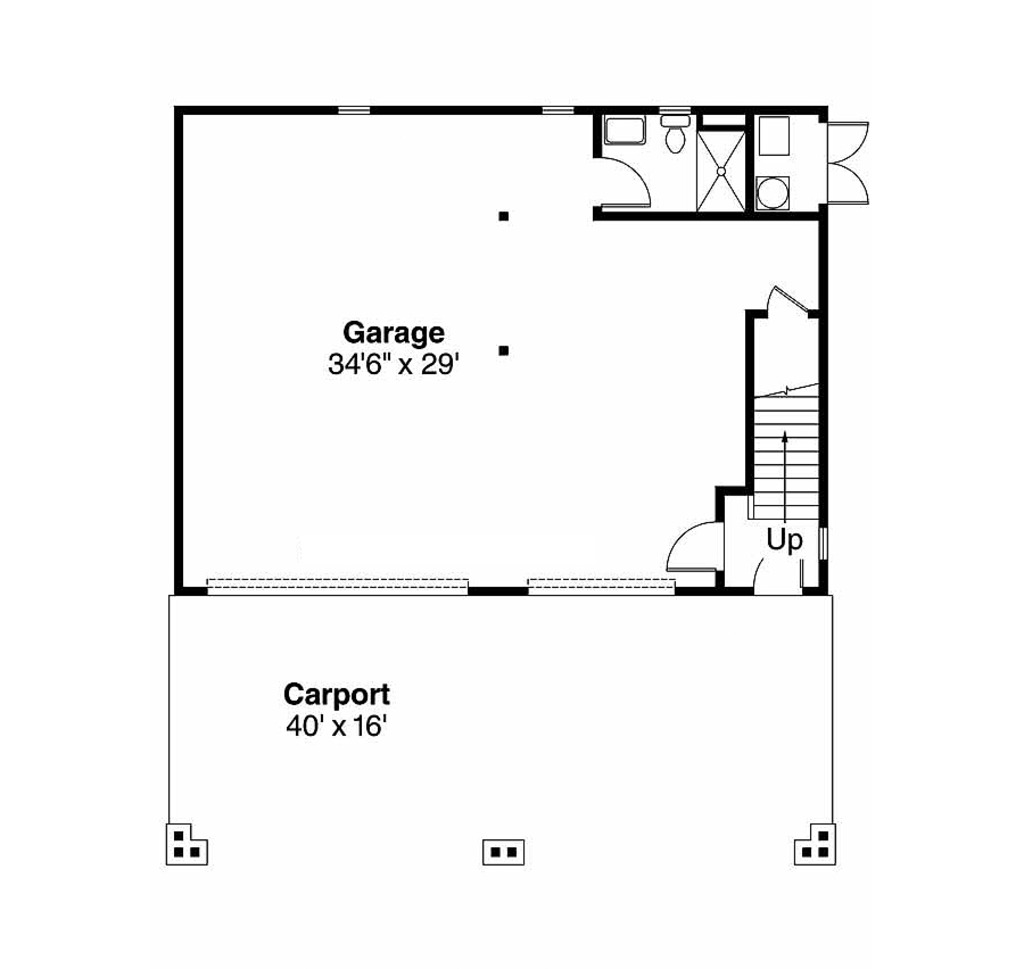door: (646, 515, 733, 575), (597, 147, 658, 210), (830, 113, 871, 203), (746, 547, 805, 600), (759, 279, 811, 319)
large_sink: (661, 110, 693, 154)
stairs: (745, 313, 824, 522)
window: (333, 101, 375, 119), (821, 513, 833, 559), (546, 109, 578, 116)
